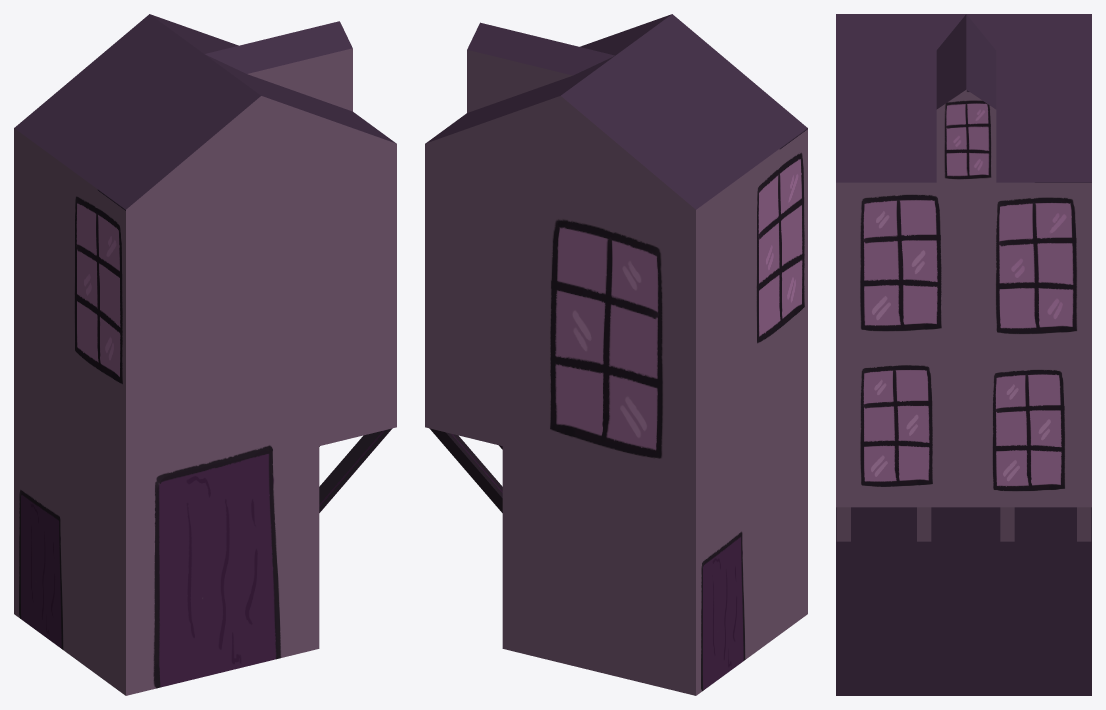
File: House_3.2.fbx
3 renders of one model, left to right at view 1: azimuth 30°, elevation 25°; view 2: azimuth 150°, elevation 25°; view 3: azimuth 270°, elevation 25°, orthographic. The views are drawn at different scales.
Visible parts, largest first — view 1: Cube.001; view 2: Cube.001; view 3: Cube.001.
Part boxes in pixels (x1=…): Cube.001: x1=14, y1=14, x2=396, y2=695; Cube.001: x1=425, y1=14, x2=807, y2=695; Cube.001: x1=836, y1=14, x2=1091, y2=695.
Bounding box in the file's own units: 503 × 1006 × 359.
1 material, 1 textured.
